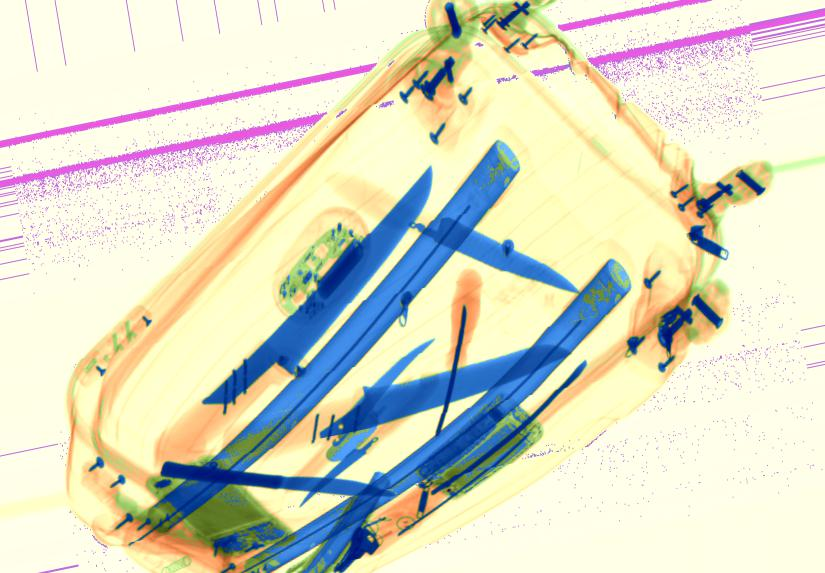KnifeCustom: (198, 165, 434, 411), (305, 344, 573, 441), (301, 338, 436, 478), (409, 217, 580, 295), (159, 461, 396, 498)
